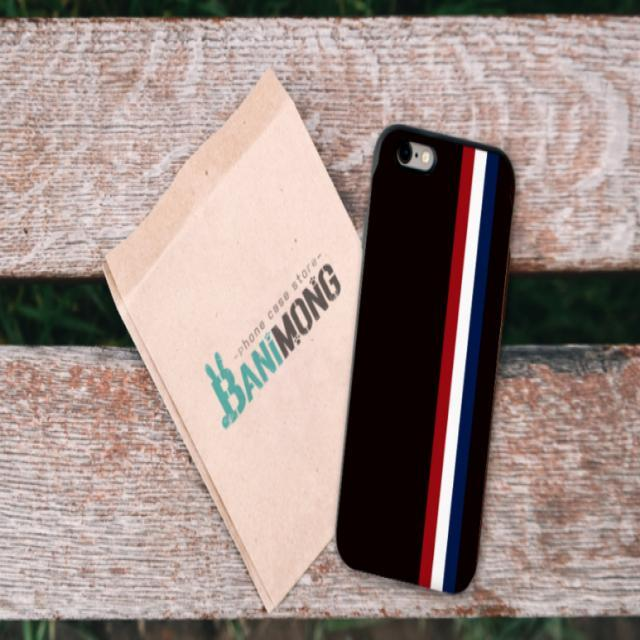phone: (336, 123, 517, 597)
